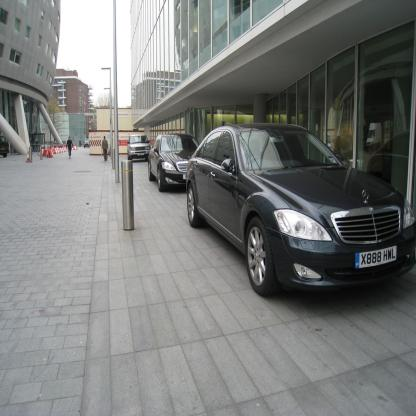Car: (186, 121, 416, 297), (148, 131, 200, 192), (127, 134, 152, 161)
